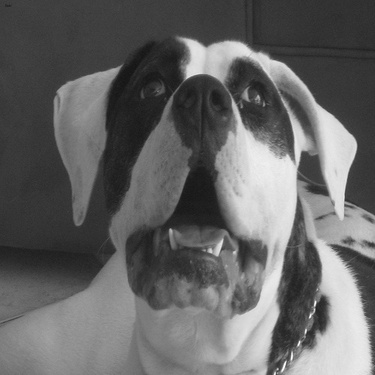dog: (5, 33, 370, 371)
